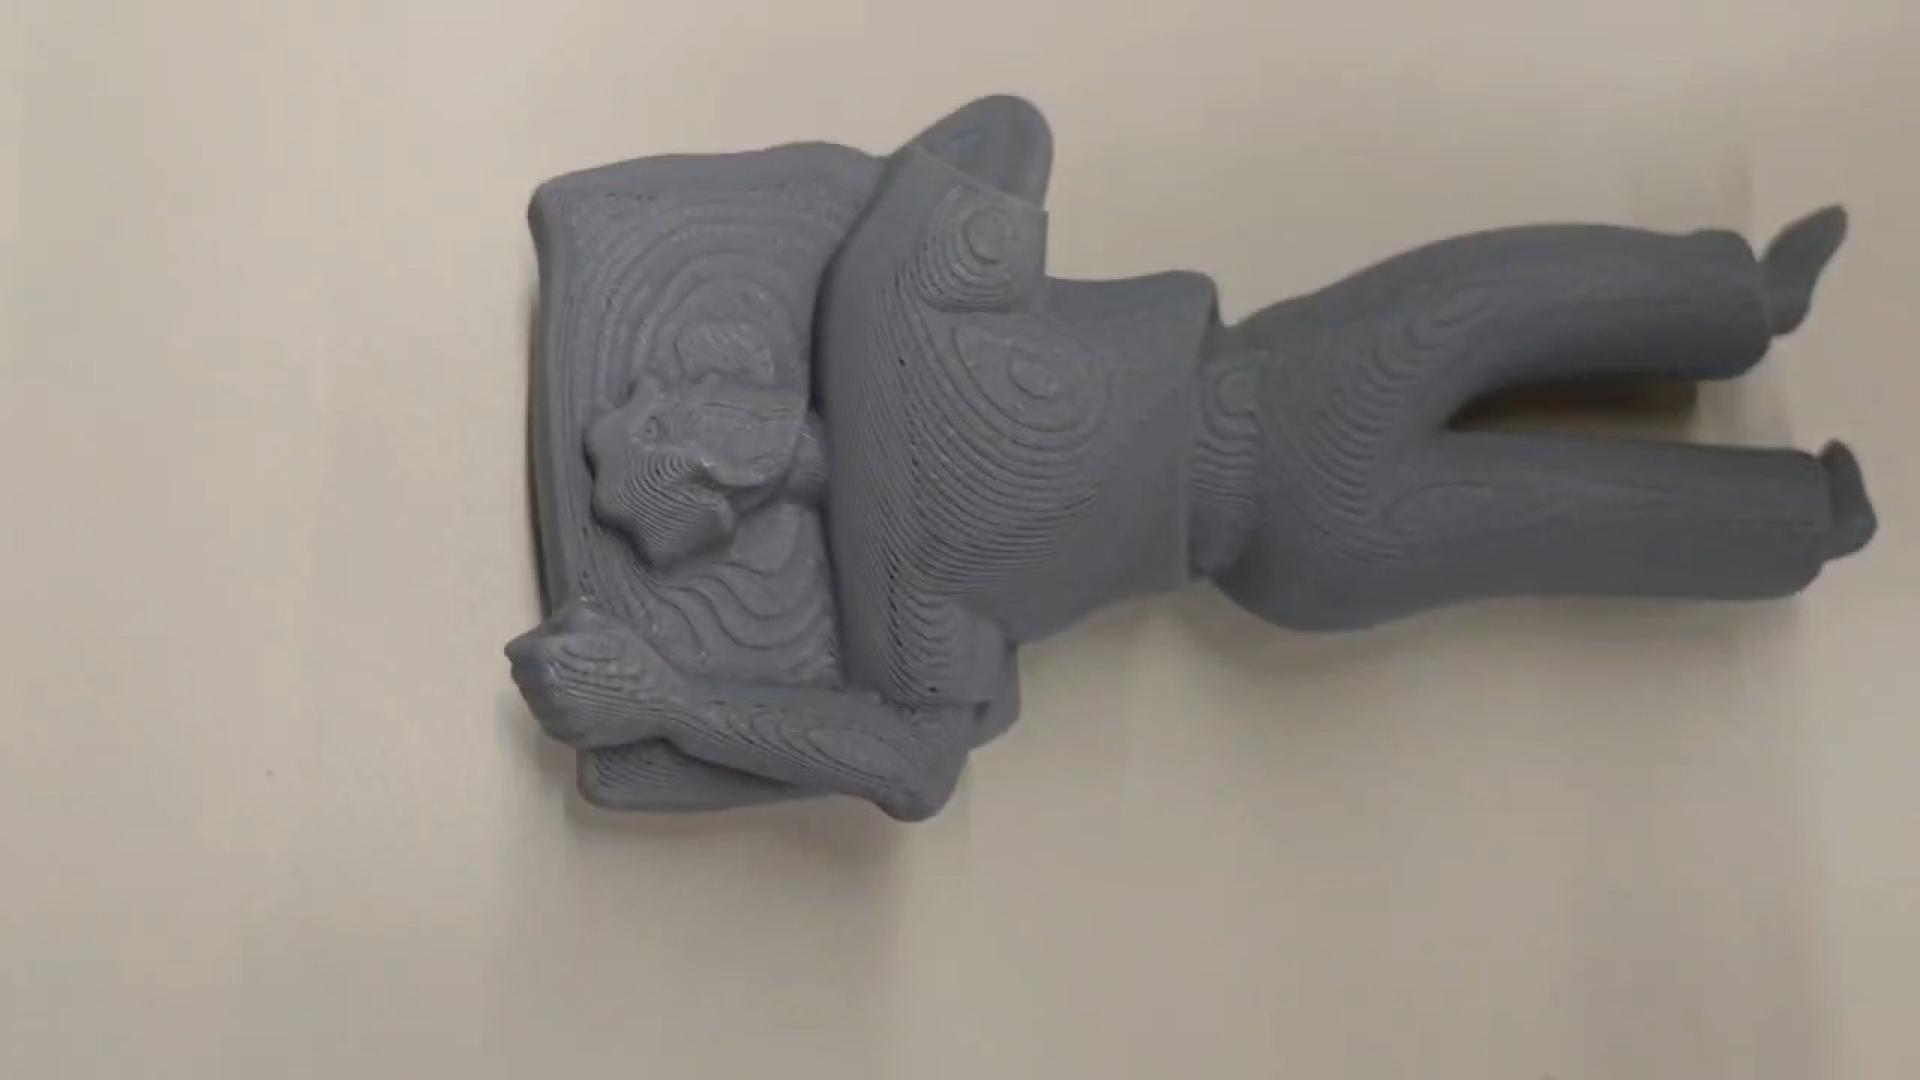Bad-style: (495, 90, 1879, 835)
